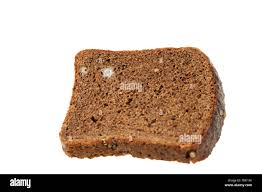mold_bread: (100, 67, 115, 80), (79, 65, 88, 75)
